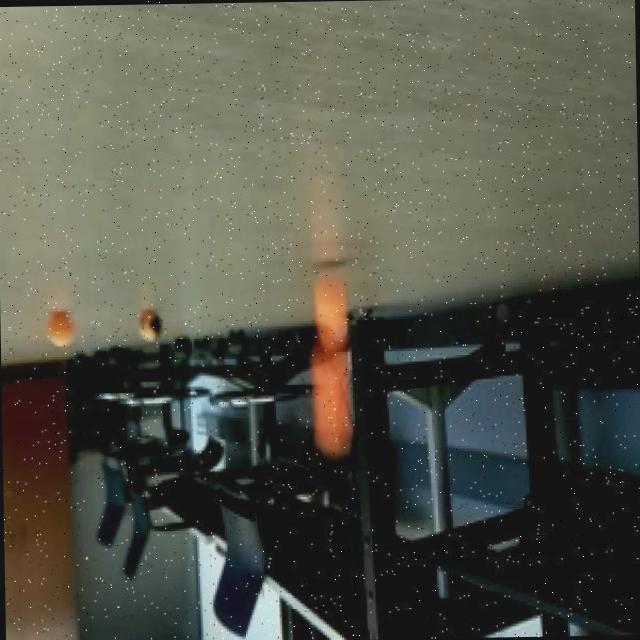ping-pong-ball: (302, 264, 351, 335), (129, 298, 165, 344), (40, 306, 74, 354)
